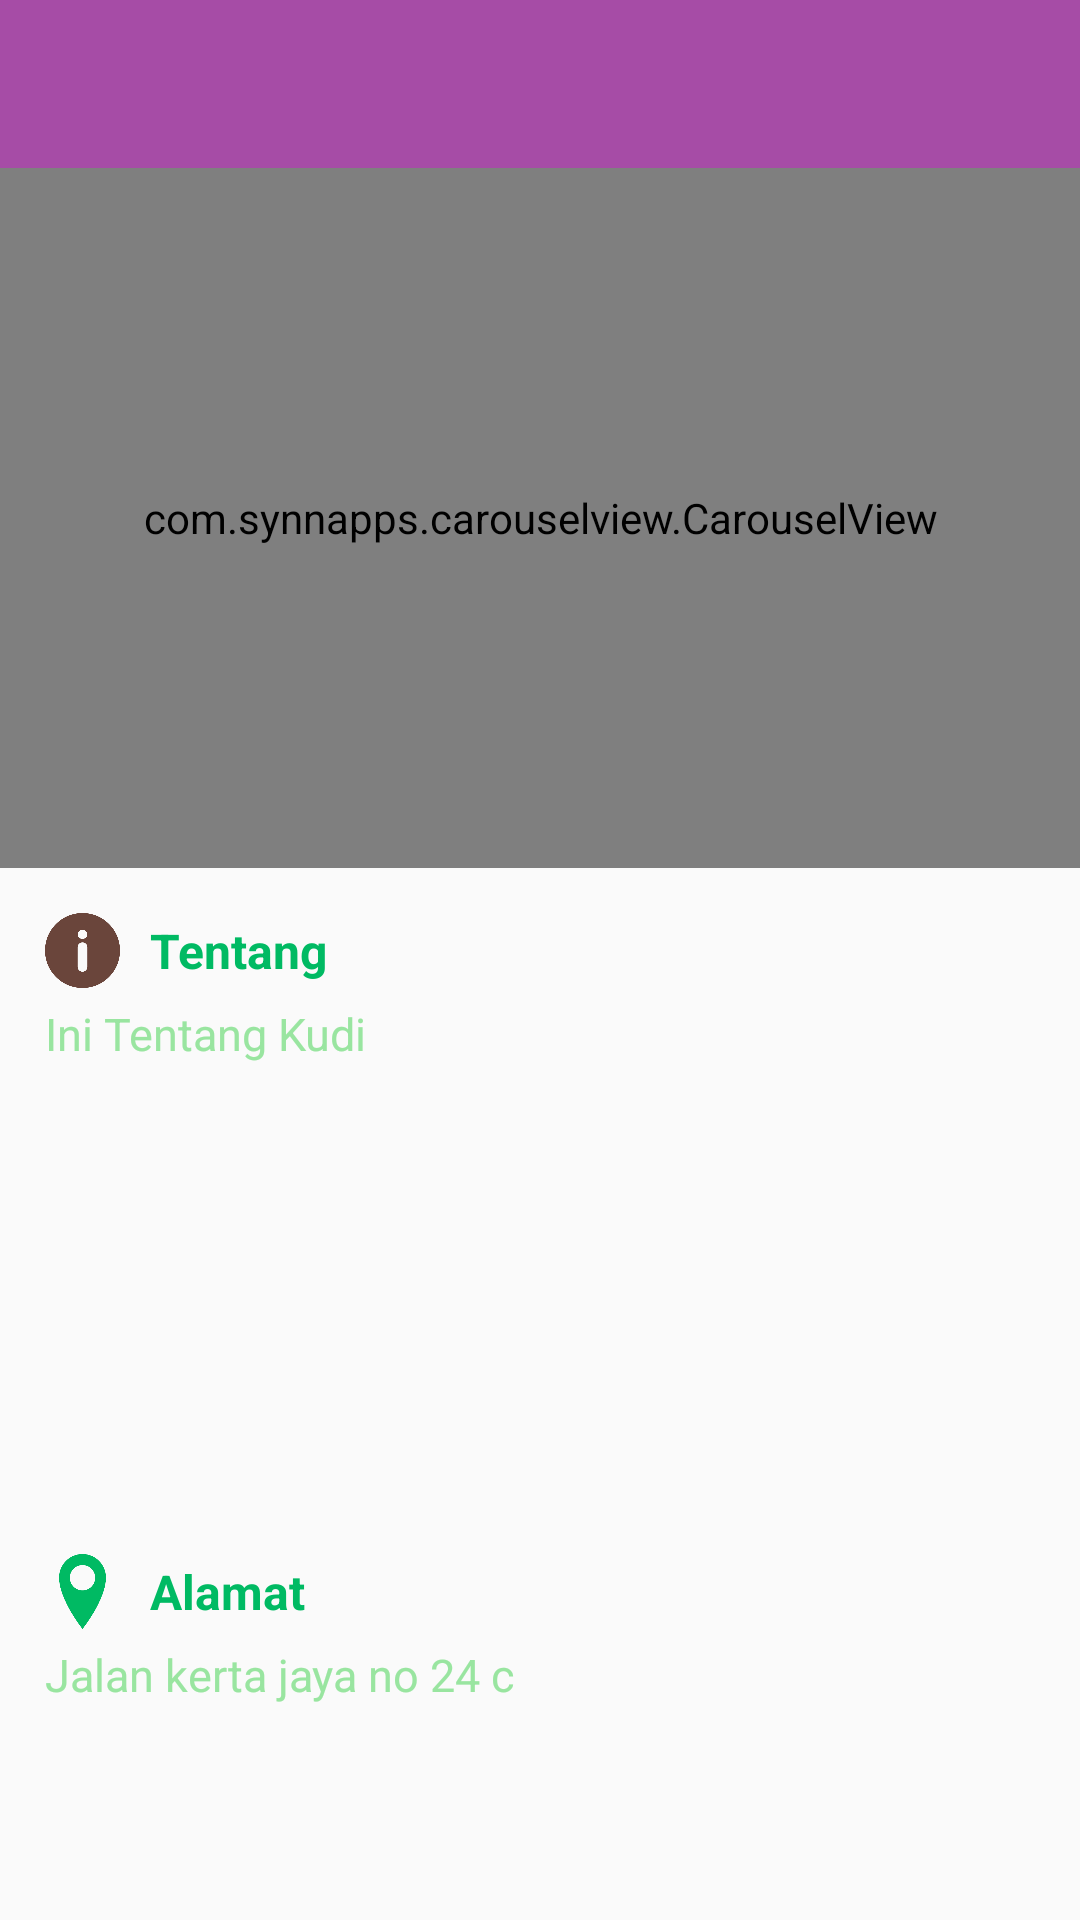

Icons on this 1080x1920 Android screen, each with its box as (x1, y1, x2, y2):
info brown: (45, 913, 120, 988)
location: (59, 1554, 106, 1629)
